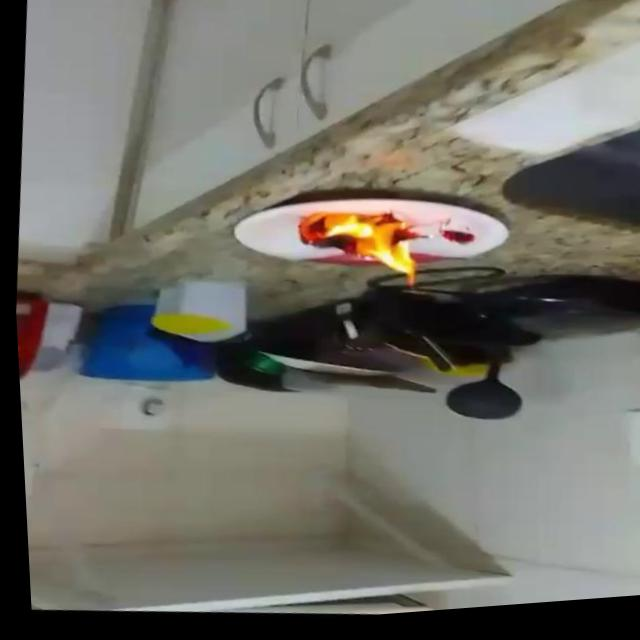Fire: (286, 203, 424, 301)
